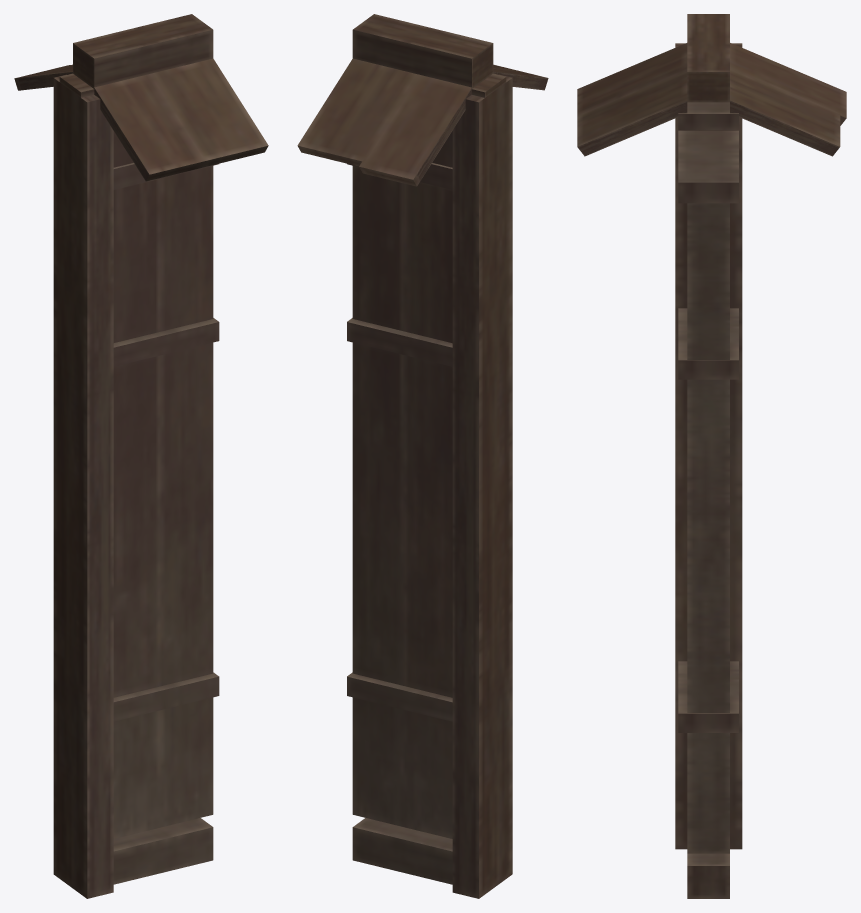
The model's file is WallEndL_01a.fbx.
The picture shows the model from 3 angles, left to right: view 1: azimuth 30°, elevation 25°; view 2: azimuth 150°, elevation 25°; view 3: azimuth 270°, elevation 25°; orthographic projection.
Parts seen in each view (by area): view 1: SM_cmn_build_WallEndL_01a.mo; view 2: SM_cmn_build_WallEndL_01a.mo; view 3: SM_cmn_build_WallEndL_01a.mo.
Boxes of the visible parts, x1=… form: SM_cmn_build_WallEndL_01a.mo: x1=14, y1=14, x2=268, y2=898; SM_cmn_build_WallEndL_01a.mo: x1=297, y1=14, x2=548, y2=898; SM_cmn_build_WallEndL_01a.mo: x1=577, y1=14, x2=846, y2=898.
Size of the model in its own units: 50.5 by 301 by 88.56.
Materials: 1 (1 with a texture image).
